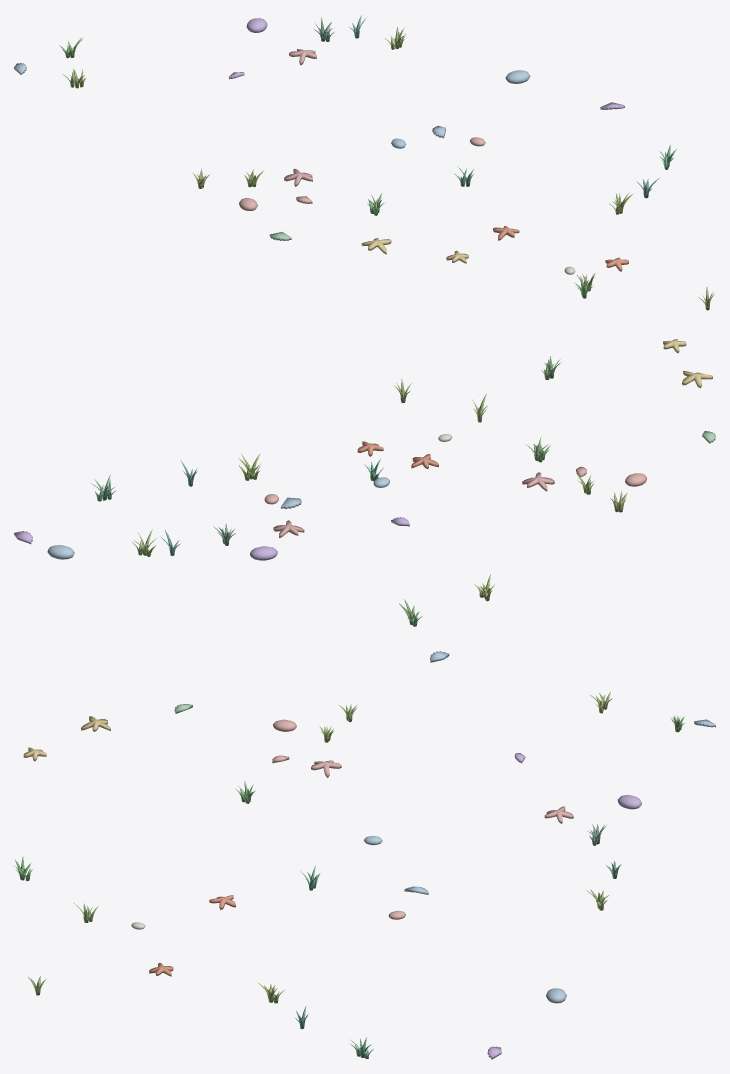
The model's file is W2_FloraRing_11_8.fbx.
3 views of the same model, one above another, from view 1: azimuth 30°, elevation 25°; view 2: azimuth 150°, elevation 25°; view 3: azimuth 270°, elevation 25° (orthographic). The views are drawn at different scales.
Parts seen in each view (by area): view 1: W2_FloraRing_11_8; view 2: W2_FloraRing_11_8; view 3: W2_FloraRing_11_8.
Part boxes in pixels (<box>): W2_FloraRing_11_8: <box>14,15,714,310</box>; W2_FloraRing_11_8: <box>14,339,715,662</box>; W2_FloraRing_11_8: <box>14,691,715,1059</box>.
Size of the model in its own units: 3.36 by 0.8038 by 3.96.
